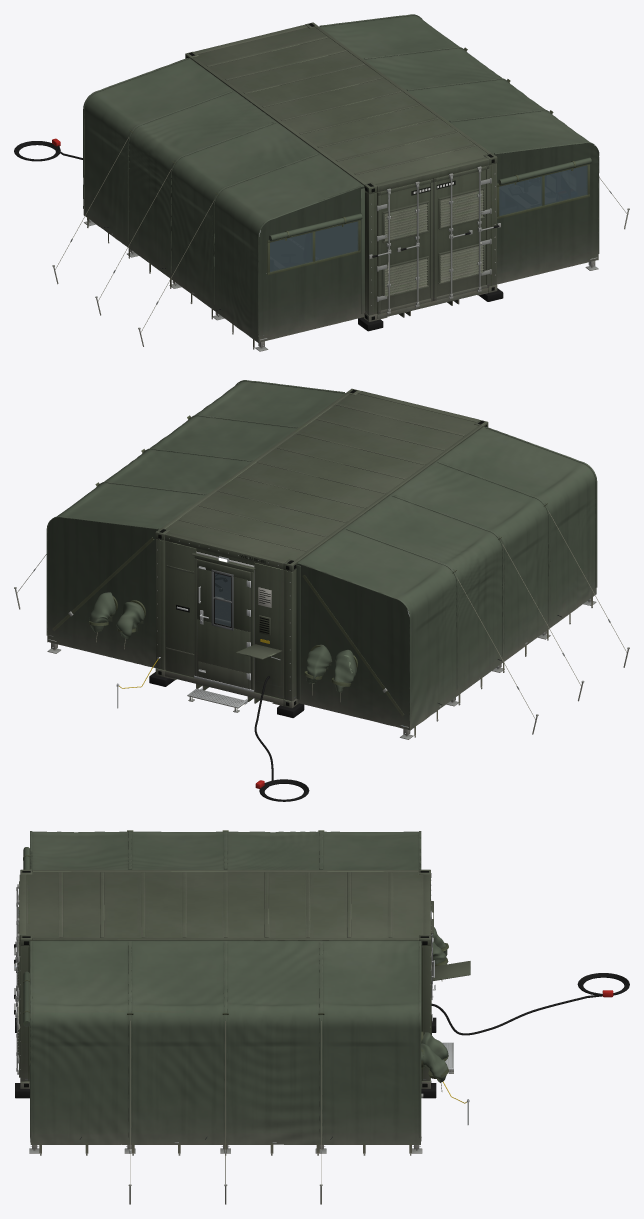
Rendered from mecc-deployed-fitted-web.glb.
The picture shows the model from 3 angles, top to bottom: view 1: azimuth 30°, elevation 25°; view 2: azimuth 150°, elevation 25°; view 3: azimuth 270°, elevation 25°; orthographic projection. The views are drawn at different scales.
Visible parts, largest first — view 1: MECC_expansion_L, MECC_core, MECC_expansion_R, MECC_site_kit; view 2: MECC_expansion_L, MECC_core, MECC_expansion_R, MECC_site_kit, MECC_fitout; view 3: MECC_expansion_R, MECC_core, MECC_expansion_L, MECC_site_kit.
Boxes of the visible parts, x1,y1,x2,y2 form: MECC_expansion_L: (83, 58, 364, 351); MECC_core: (185, 22, 503, 331); MECC_expansion_R: (319, 14, 599, 284); MECC_site_kit: (14, 47, 629, 346); MECC_expansion_L: (296, 426, 597, 739); MECC_core: (149, 388, 488, 717); MECC_expansion_R: (46, 380, 345, 668); MECC_site_kit: (14, 415, 629, 801); MECC_fitout: (215, 574, 561, 704); MECC_expansion_R: (23, 940, 448, 1155); MECC_core: (14, 869, 470, 1098); MECC_expansion_L: (23, 831, 448, 981); MECC_site_kit: (127, 830, 629, 1204).
Size of the model in its own units: 9.34 by 2.86 by 9.09.
87 materials, 39 textured.
